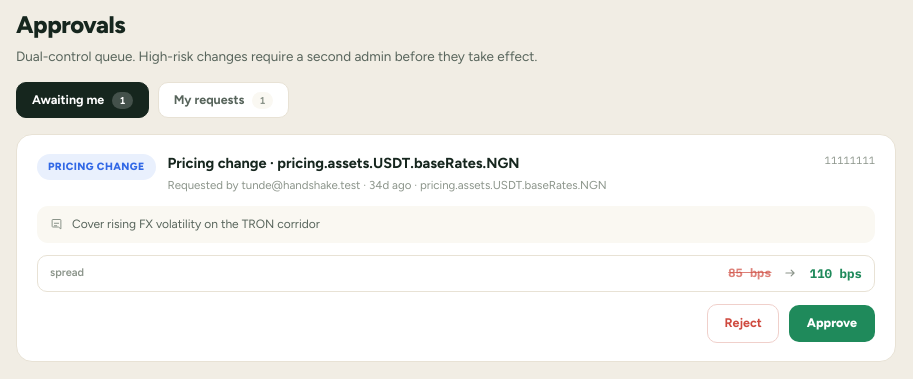
it: ApprovalsPage › shows the dual-control guard (no actions) for my own requests
Expected: the text "Pricing change · pricing.assets.USDT.baseRates.NGN" is shown, [168, 154, 519, 172]
Click the tab "My requests 1".
click(223, 100)  # box [158, 82, 289, 118]
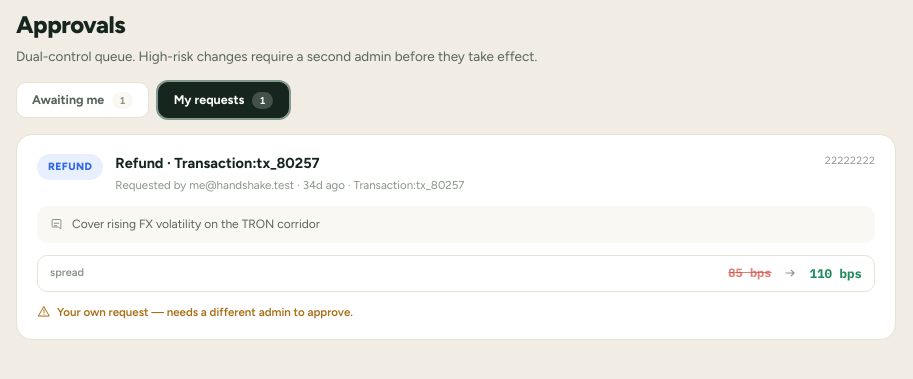
Result: the text "Your own request — needs a different admin to approve." is shown at [37, 305, 353, 319]
Result: the button "Reject" is gone
